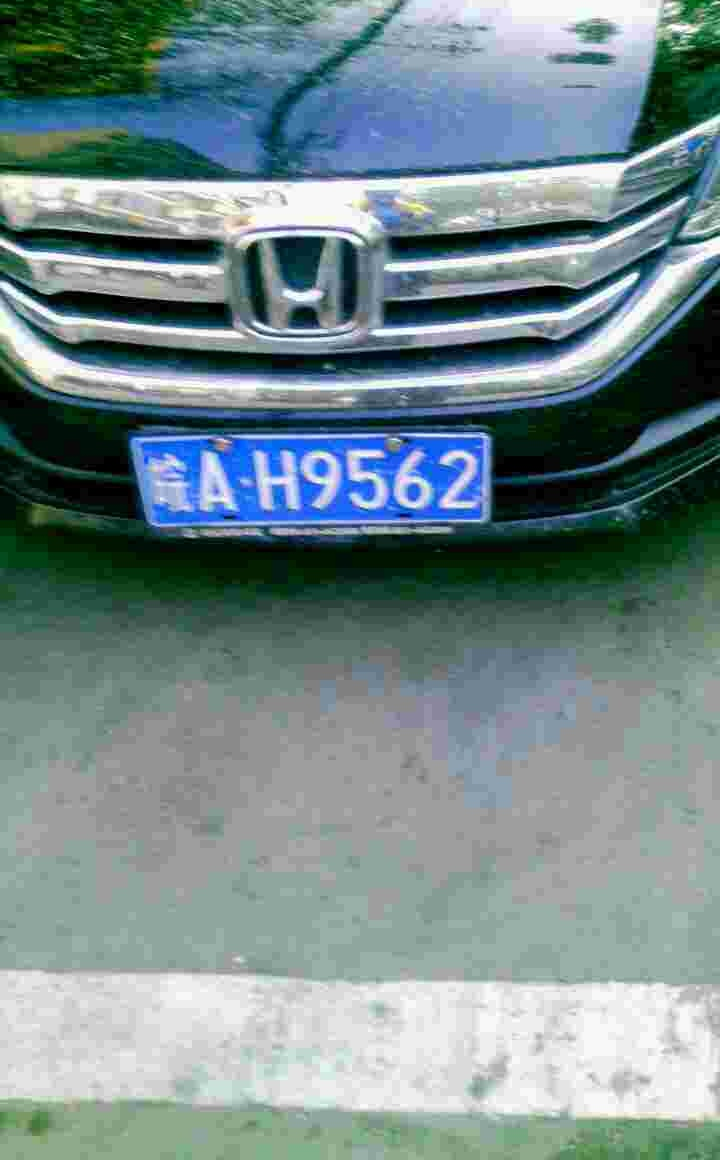license_plate: (137, 423, 493, 537)
